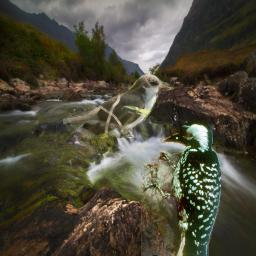Cuckoo: (63, 73, 170, 138)
Woodpecker: (141, 120, 221, 256)
